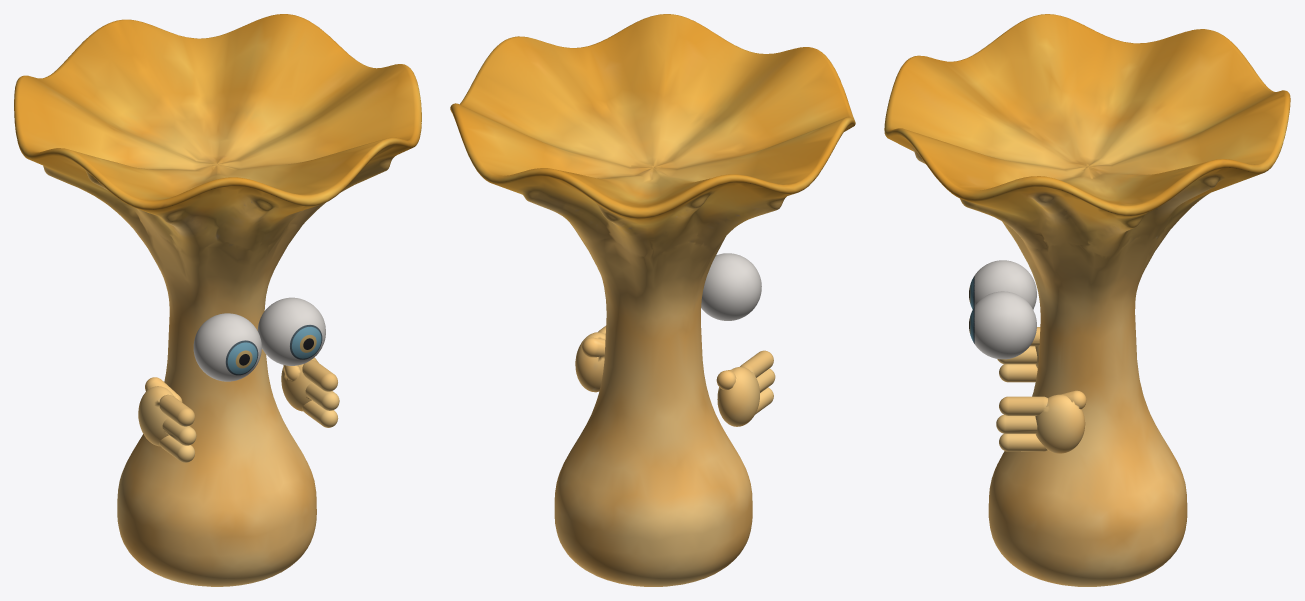
File: chanterelle-scout.glb
3 views of the same model, side by side, from view 1: azimuth 30°, elevation 25°; view 2: azimuth 150°, elevation 25°; view 3: azimuth 270°, elevation 25° (orthographic).
Visible parts, largest first — view 1: body, eye, hand; view 2: body, hand, eye; view 3: body, hand, eye.
Part boxes in pixels (<box>): body: <box>14,14,421,586</box>; eye: <box>193,297,325,381</box>; hand: <box>138,357,339,462</box>; body: <box>450,14,855,586</box>; hand: <box>575,326,775,426</box>; eye: <box>701,253,761,320</box>; body: <box>884,14,1290,586</box>; hand: <box>996,327,1086,453</box>; eye: <box>969,260,1036,359</box>.
Bounding box in the file's own units: 1.43 × 1.83 × 1.43.
